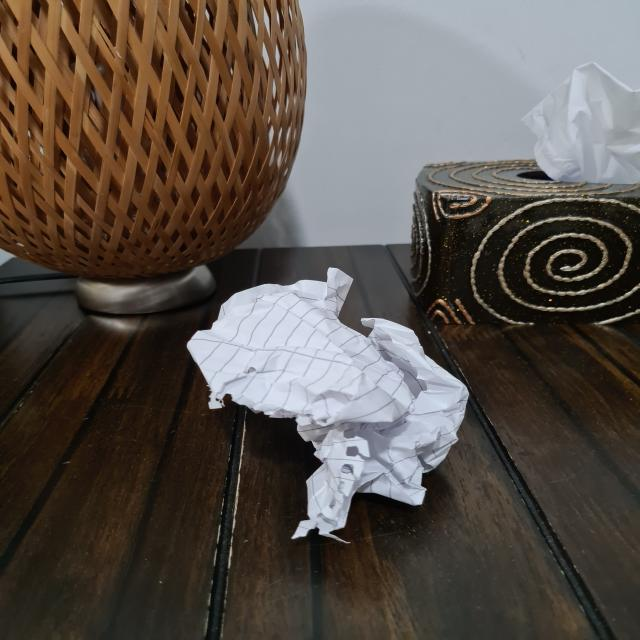Paper: (191, 259, 476, 542)
